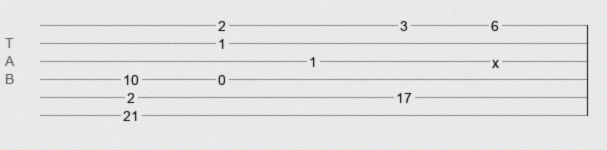0: (218, 72, 226, 82)
1: (218, 36, 226, 46), (309, 54, 317, 64)
10: (123, 72, 139, 82)
17: (396, 90, 412, 100)
2: (127, 90, 135, 100), (218, 18, 226, 28)
21: (123, 108, 139, 118)
3: (400, 18, 408, 28)
6: (491, 18, 499, 28)
x: (492, 55, 499, 63)
